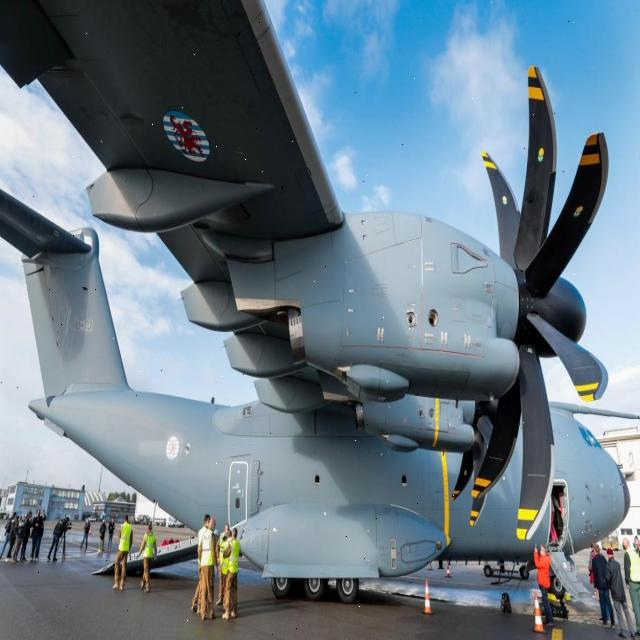C130: (0, 0, 638, 612)
